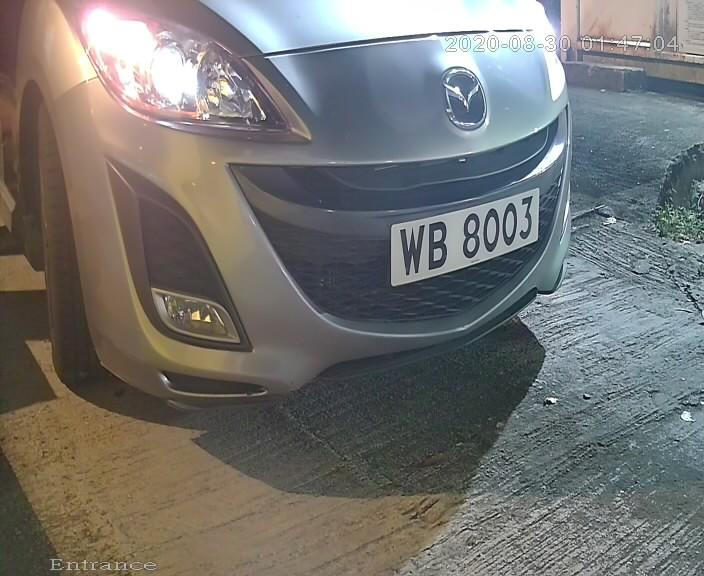License Plate: (384, 183, 538, 291)
